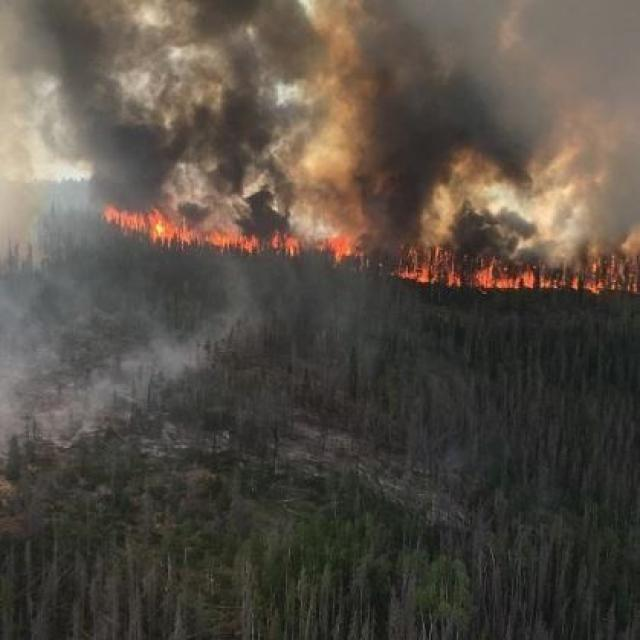Fire: (69, 187, 640, 321)
Smoke: (25, 0, 640, 222)
